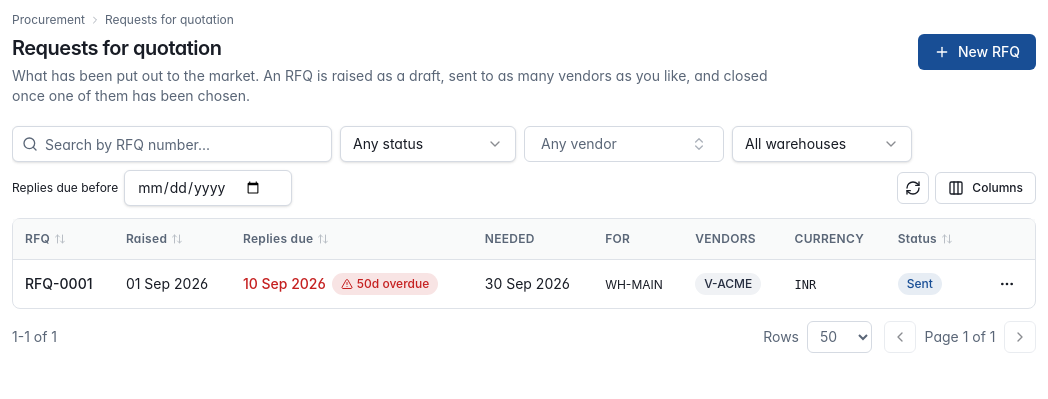
the state machine decides which commands exist › lets a sent enquiry be closed or cancelled, and never edited or re-sent
Check: the text "RFQ-0001" is shown, box [25,274,92,292]
Click the button named "More actions for RFQ-0001" at (1007, 284), box [991,268,1023,300]
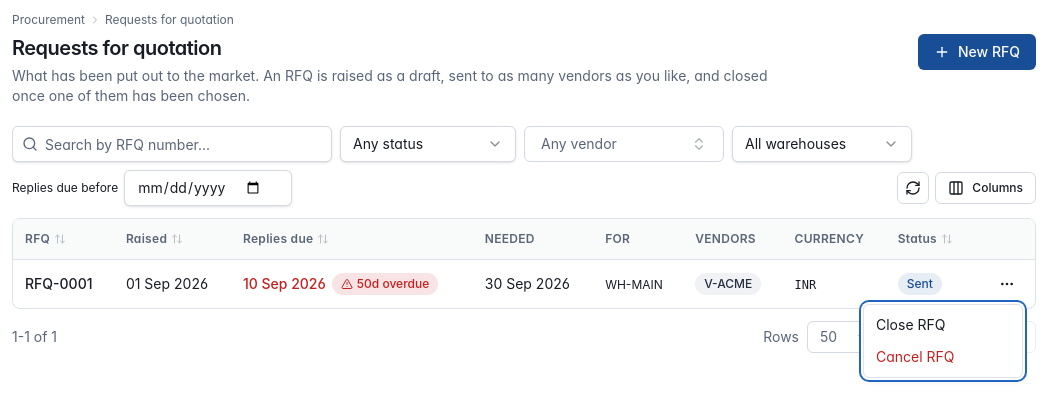
Check: the menu is shown, box [863,304,1023,378]
Check: the menu item "Close RFQ" is shown, box [876,316,946,333]
Check: the menu item "Cancel RFQ" is shown, box [876,348,954,365]
